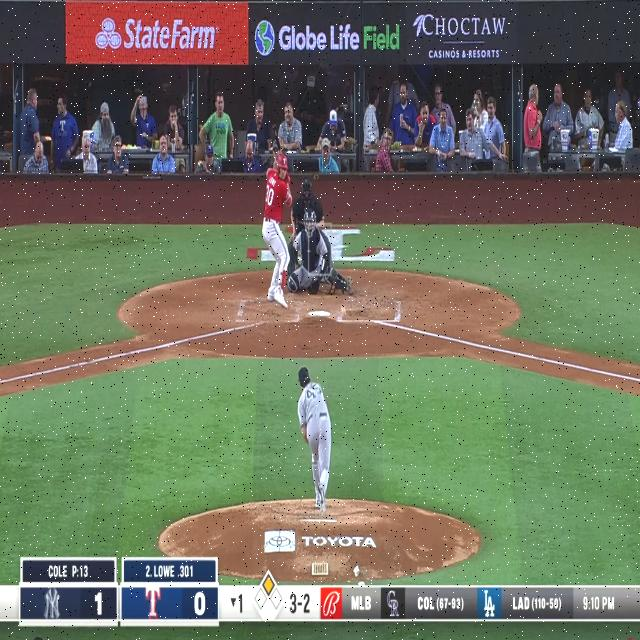baseball: (341, 305, 346, 317)
